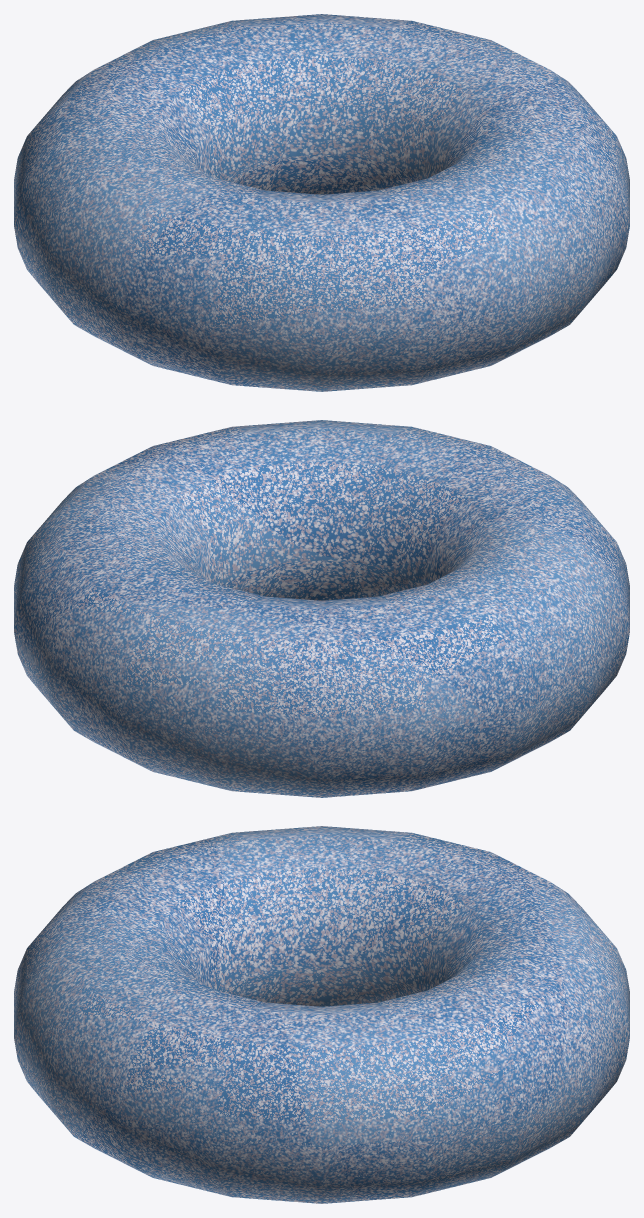
File: Gummy Rosca.fbx
3 renders of one model, top to bottom at view 1: azimuth 30°, elevation 25°; view 2: azimuth 150°, elevation 25°; view 3: azimuth 270°, elevation 25°, orthographic.
Visible parts, largest first — view 1: Gummy Rosca; view 2: Gummy Rosca; view 3: Gummy Rosca.
Boxes of the visible parts, box(x1,y1,x2,y2) form: Gummy Rosca: box(14, 14, 629, 391); Gummy Rosca: box(14, 420, 629, 797); Gummy Rosca: box(14, 826, 629, 1203).
Bounding box in the file's own units: 0.1268 × 0.0401 × 0.1249.
